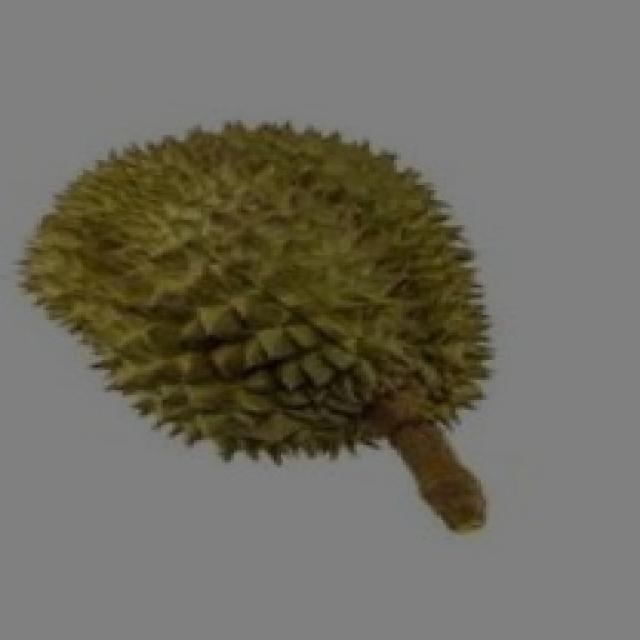fruit: (0, 98, 366, 528)
